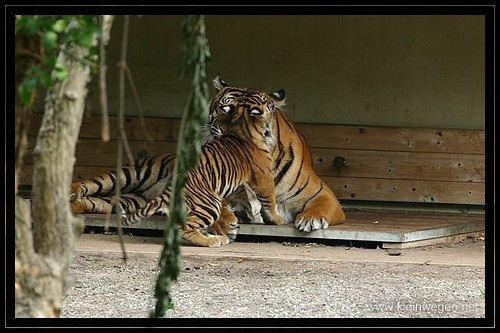tigre: (62, 74, 347, 229), (124, 108, 270, 248)
